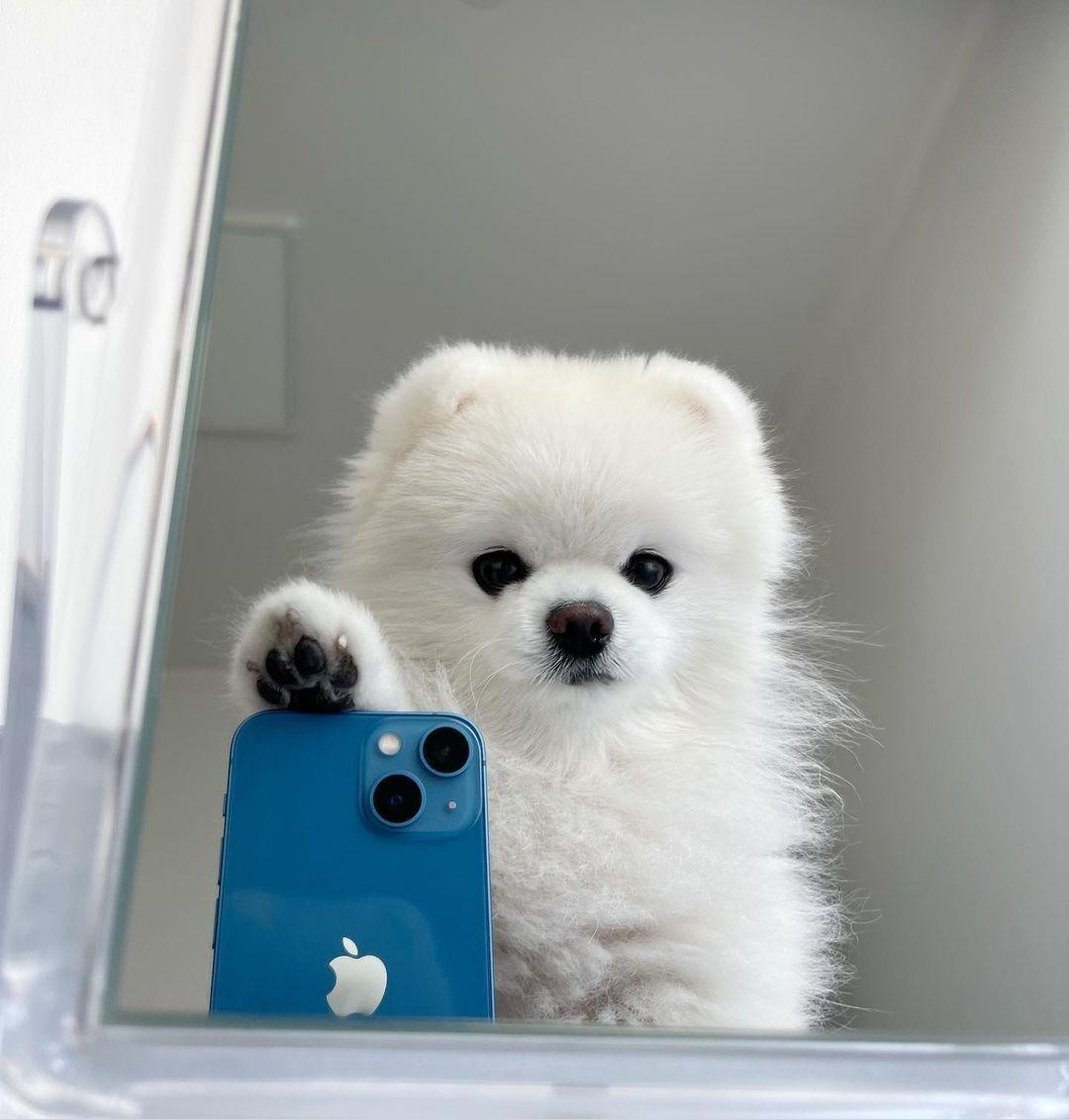puppy-dog: (226, 334, 871, 1038)
